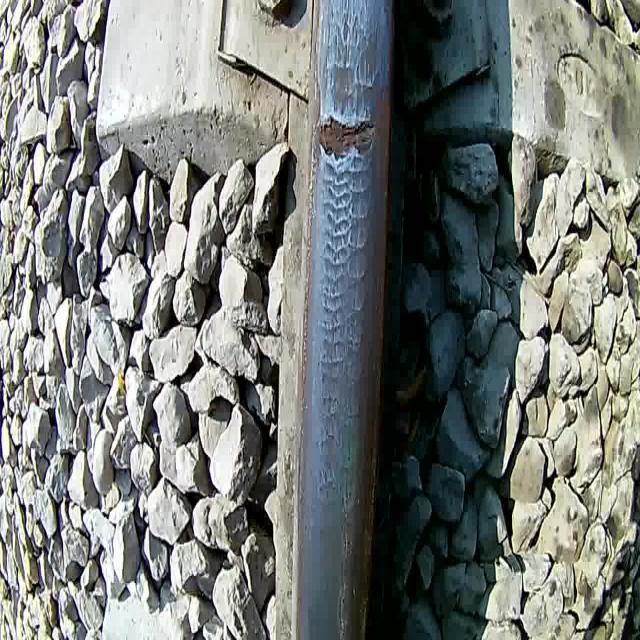Cracks: (334, 437, 359, 639)
Spallings: (314, 108, 381, 166)
Squats: (314, 150, 374, 493), (326, 0, 386, 117)
